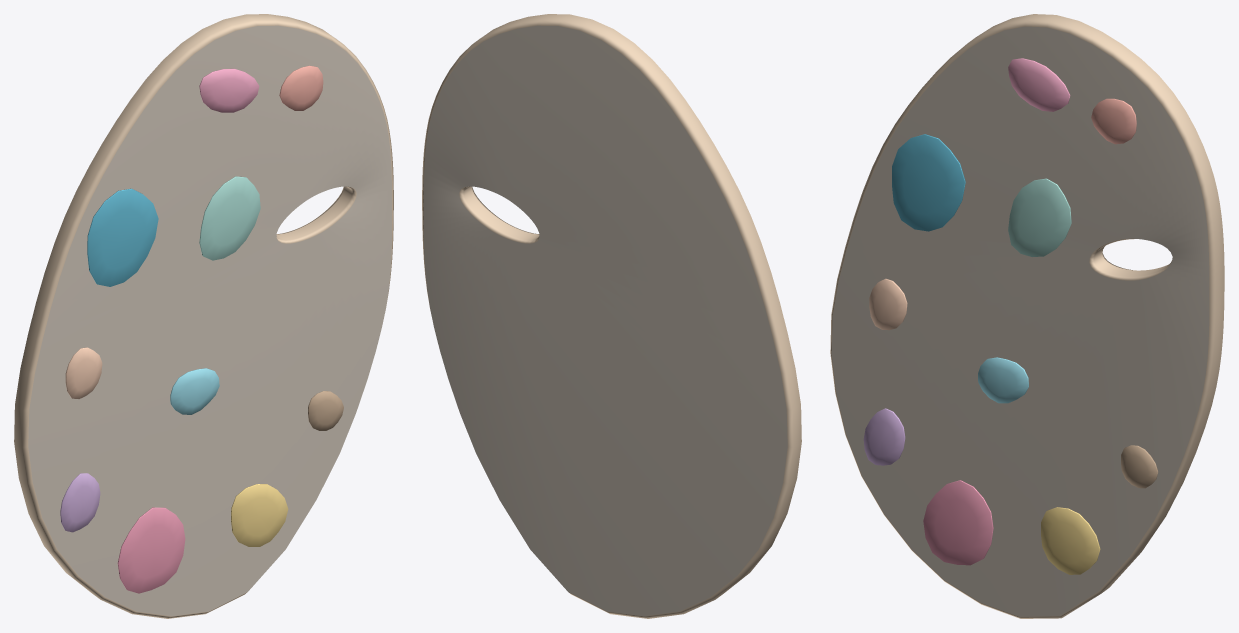
The model's file is yuna-palette-source-guided-optimized-candidate.glb.
The picture shows the model from 3 angles, left to right: view 1: azimuth 30°, elevation 25°; view 2: azimuth 150°, elevation 25°; view 3: azimuth 330°, elevation 25°; orthographic projection. The views are drawn at different scales.
Parts seen in each view (by area): view 1: Yuna_palette_body_with_open_thumb_hole, Paint_cobalt_left_upper, Paint_rose_lower, Paint_mint_upper_middle, Paint_yellow_lower, Paint_pink_upper, Paint_violet_lower_left, Paint_sky_middle, Paint_coral_upper, Paint_orange_left_middle, Paint_brown_right_middle; view 2: Yuna_palette_body_with_open_thumb_hole; view 3: Yuna_palette_body_with_open_thumb_hole, Paint_cobalt_left_upper, Paint_rose_lower, Paint_mint_upper_middle, Paint_yellow_lower, Paint_pink_upper, Paint_violet_lower_left, Paint_sky_middle, Paint_coral_upper, Paint_orange_left_middle, Paint_brown_right_middle.
Part boxes in pixels (x1,y1,x2,y2): Yuna_palette_body_with_open_thumb_hole: (14, 14, 393, 618); Paint_cobalt_left_upper: (87, 188, 158, 286); Paint_rose_lower: (117, 507, 185, 593); Paint_mint_upper_middle: (199, 176, 260, 260); Paint_yellow_lower: (231, 484, 288, 546); Paint_pink_upper: (199, 68, 259, 112); Paint_violet_lower_left: (60, 473, 100, 532); Paint_sky_middle: (170, 368, 219, 414); Paint_coral_upper: (279, 65, 323, 110); Paint_orange_left_middle: (65, 347, 102, 398); Paint_brown_right_middle: (308, 391, 343, 430); Yuna_palette_body_with_open_thumb_hole: (422, 14, 801, 618); Yuna_palette_body_with_open_thumb_hole: (830, 14, 1224, 618); Paint_cobalt_left_upper: (892, 134, 965, 231); Paint_rose_lower: (923, 480, 993, 565); Paint_mint_upper_middle: (1008, 178, 1071, 256); Paint_yellow_lower: (1041, 507, 1100, 574); Paint_pink_upper: (1008, 58, 1070, 111); Paint_violet_lower_left: (863, 408, 905, 465); Paint_sky_middle: (978, 357, 1028, 403); Paint_coral_upper: (1091, 98, 1136, 144); Paint_orange_left_middle: (869, 278, 907, 330); Paint_brown_right_middle: (1121, 445, 1158, 488).
Bounding box in the file's own units: 0.6999 × 1.05 × 0.052.
